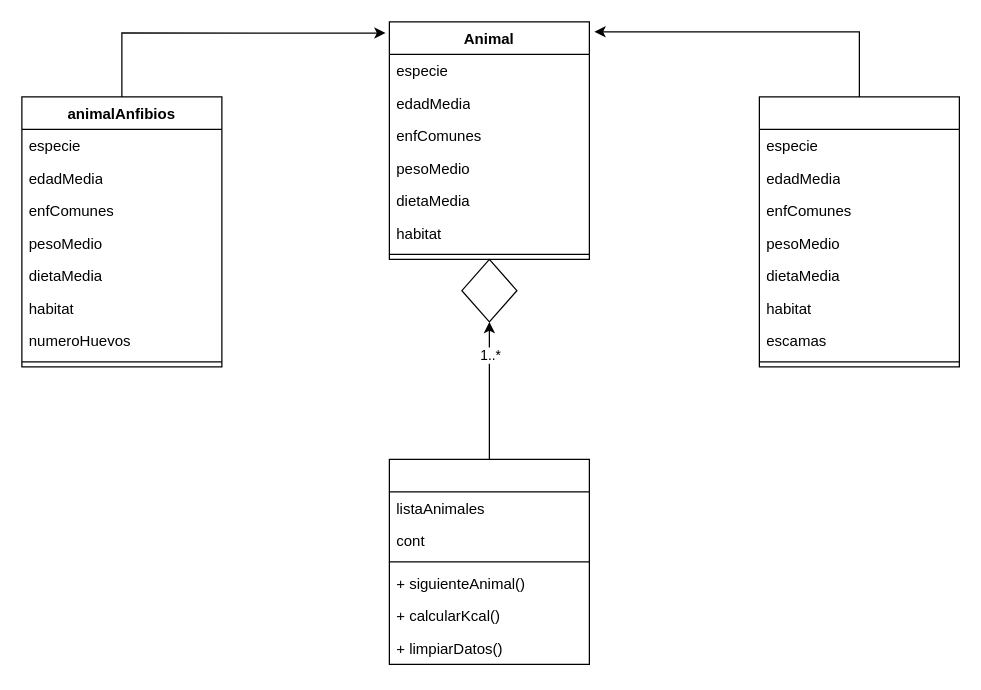
This 981x690 diagram has some shape labels left out. Here are the shapes that lost their labels. From the top down, the box of each, then its label:
(758, 96, 959, 367): animalReptiles
(388, 458, 589, 664): CentroVeterinario
